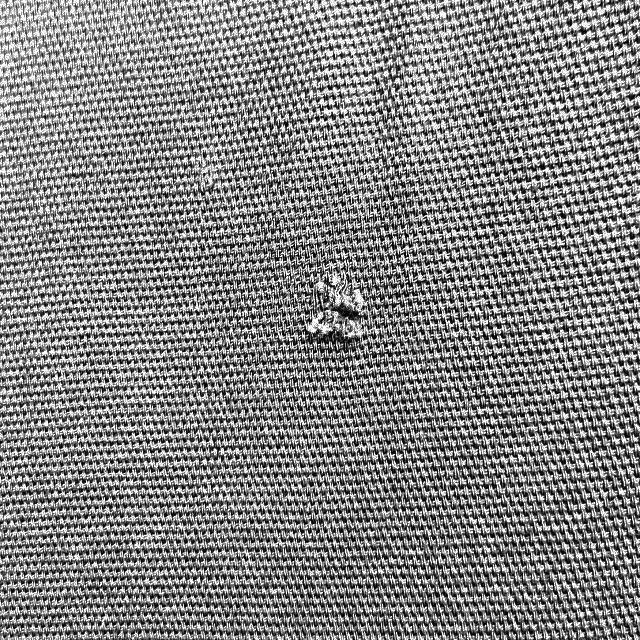Hole: (266, 274, 372, 350)
